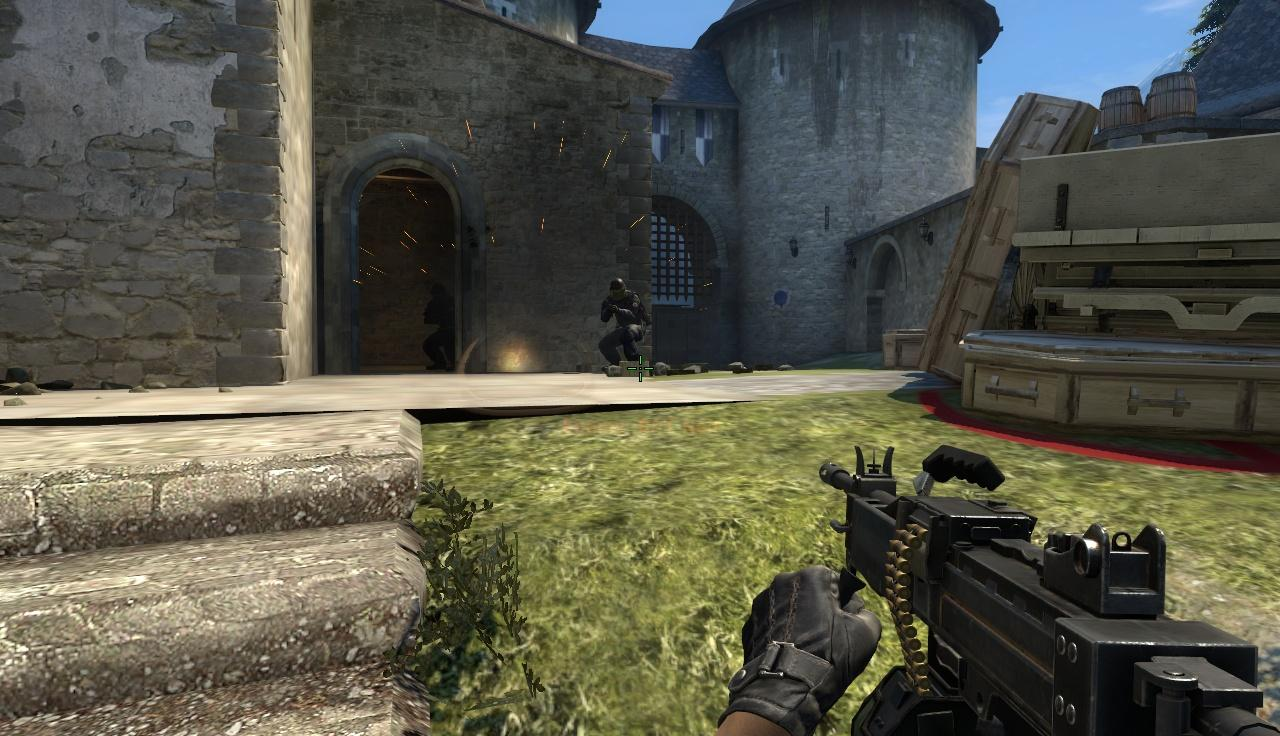ct: (597, 279, 644, 367)
cthead: (611, 279, 629, 300)
rifle: (821, 436, 1280, 732)
